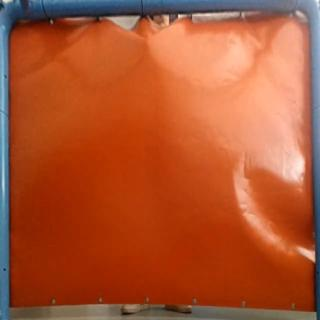Hit-hRxx: (140, 35, 156, 51)
